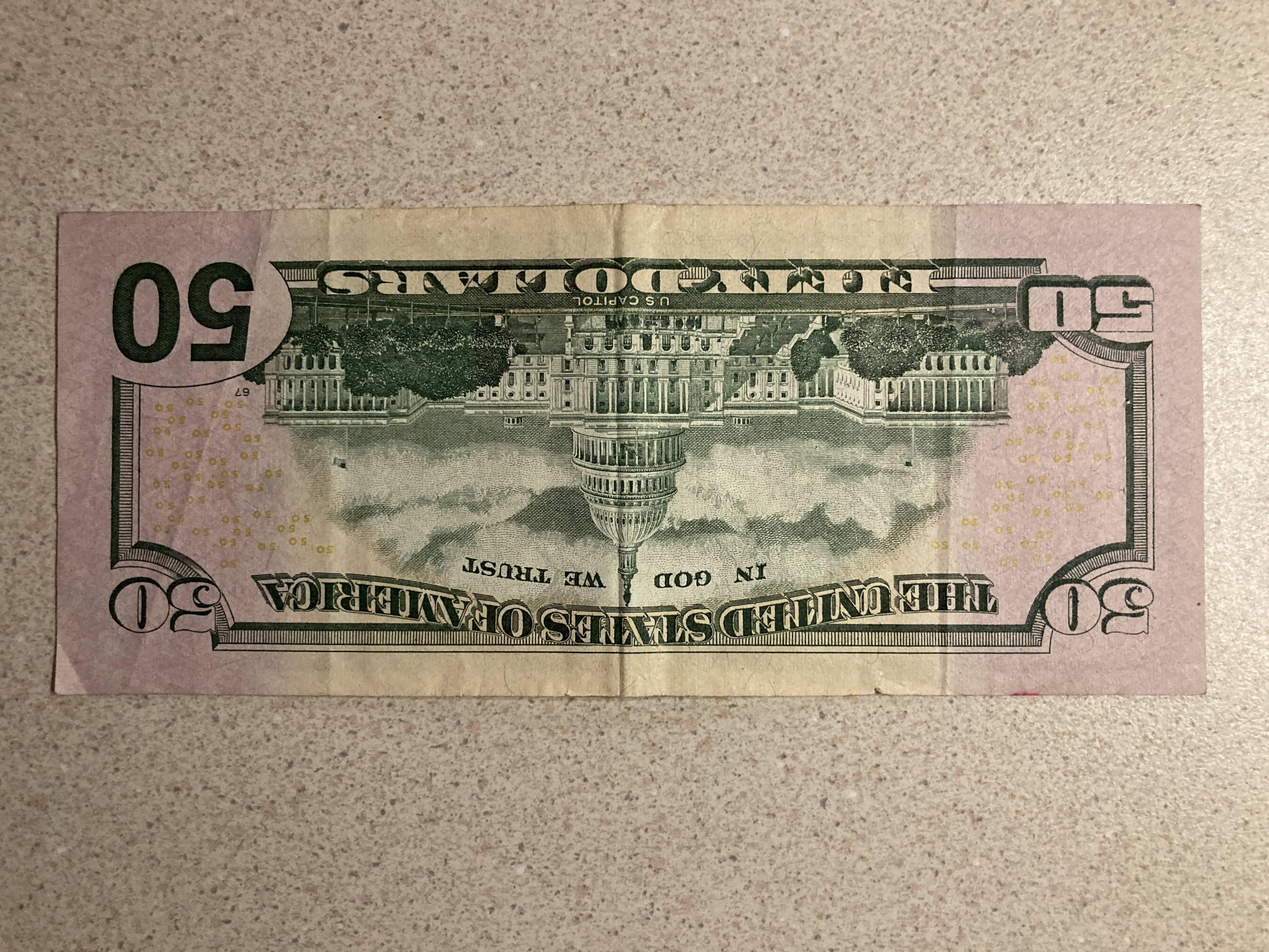fifty-back: (51, 202, 1208, 699)
